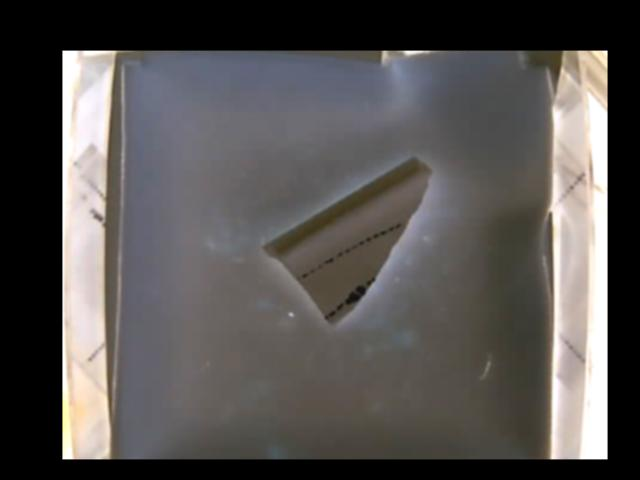China: (266, 157, 433, 324)
